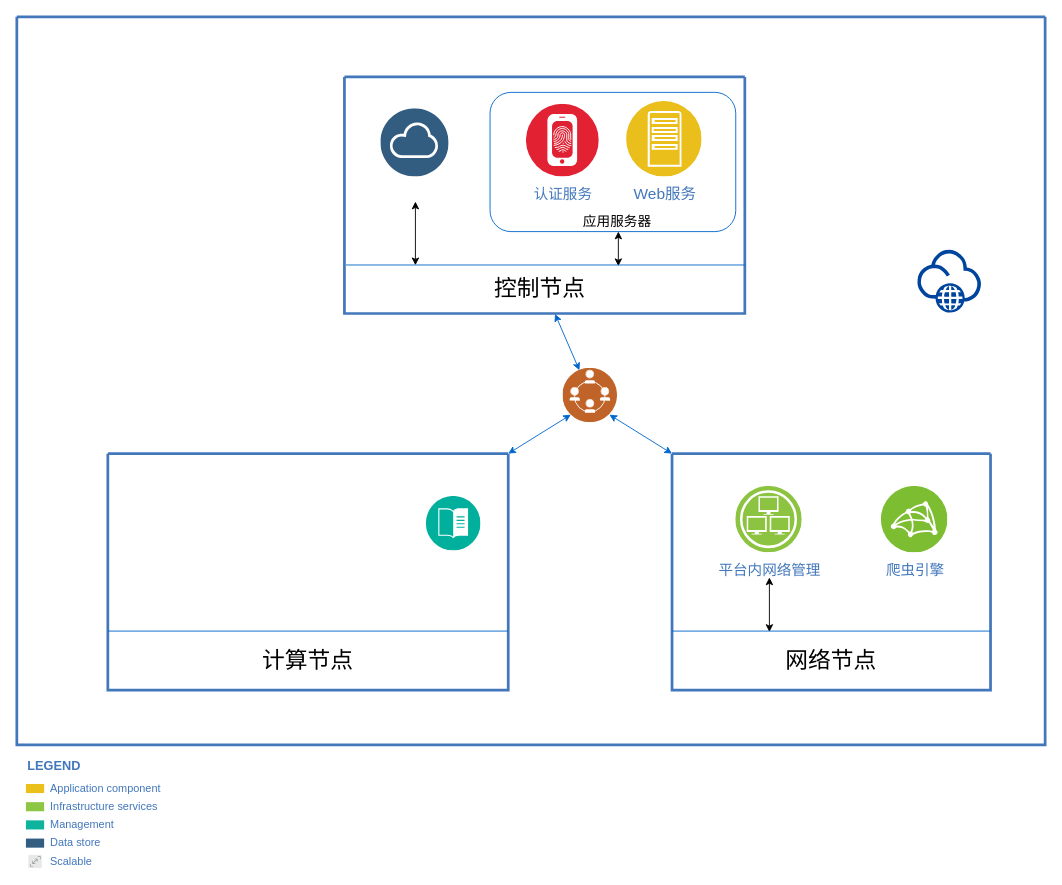
The diagram is 1062 pixels wide and 885 high, and some of its shapes have lost their labels. Here are the shapes that lost their labels. From the top down, the centre of each, then its label:
point 414,142: 底层云系统
point 949,281: Internet
